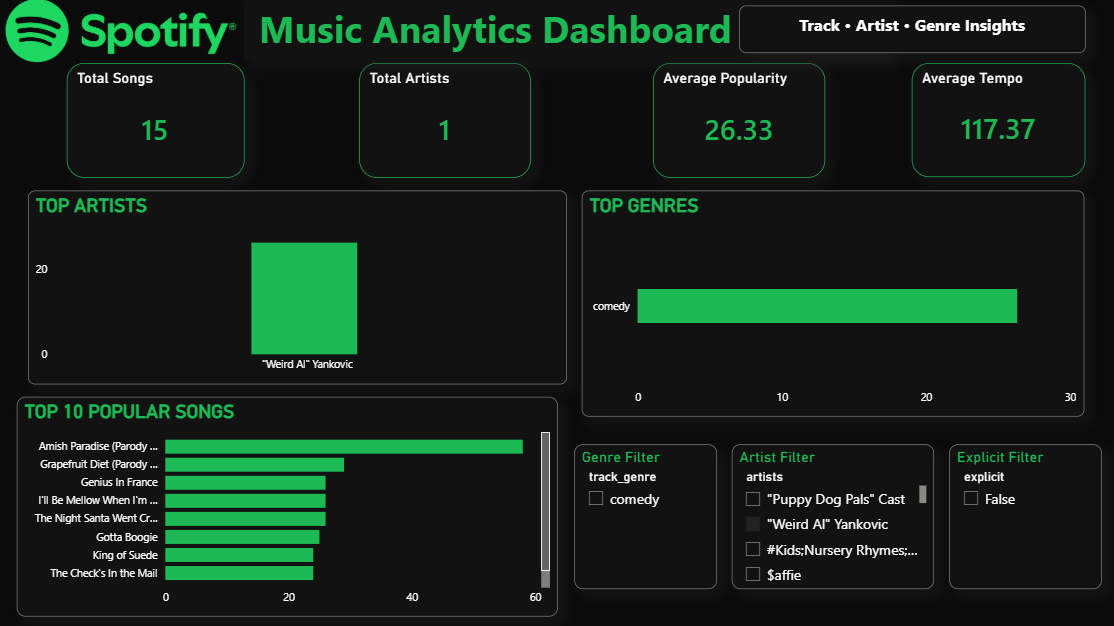

This screenshot's page, from the dashboard's own definition file:
{"tool":"powerbi","page":{"name":"Page 1","canvas":[1280,720],"ordinal":0},"visuals":[{"type":"cardVisual","title":"Total Songs","fields":{"Data":["CountNonNull(dataset.track_id)"]},"box":[78.6,74.3,202.9,131.4],"z":1000},{"type":"cardVisual","title":"Total Artists","fields":{"Data":["Count(dataset.artists)"]},"box":[412.9,74.3,195.7,131.4],"z":2000},{"type":"cardVisual","title":"Average Popularity","fields":{"Data":["Avg(dataset.popularity)"]},"box":[748.6,74.3,197.1,131.4],"z":3000},{"type":"cardVisual","title":"Average Tempo","fields":{"Data":["Avg(dataset.tempo)"]},"box":[1044.3,74.3,198.6,130],"z":4000},{"type":"clusteredBarChart","title":"TOP 10 POPULAR SONGS","fields":{"Category":["dataset.track_name"],"Y":["Avg(dataset.popularity)"]},"box":[21.4,455.7,618.6,251.4],"z":5000},{"type":"clusteredColumnChart","title":"TOP ARTISTS","fields":{"Category":["dataset.artists"],"Y":["Avg(dataset.popularity)"]},"box":[34.3,220,615.7,221.4],"z":6000},{"type":"clusteredBarChart","title":"TOP GENRES","fields":{"Y":["Avg(dataset.popularity)"],"Category":["dataset.track_genre"]},"box":[667.1,220,574.3,258.6],"z":7000},{"type":"slicer","title":"Artist Filter","fields":{"Values":["dataset.artists"]},"box":[838.6,510,231.4,165.7],"z":8000},{"type":"slicer","title":"Genre Filter","fields":{"Values":["dataset.track_genre"]},"box":[658.6,510,162.9,165.7],"z":9000},{"type":"slicer","title":"Explicit Filter","fields":{"Values":["dataset.explicit"]},"box":[1087.1,510,174.3,165.7],"z":10000},{"type":"textbox","box":[281.4,0,735.7,70],"z":10001},{"type":"image","box":[0,0,281.4,74.3],"z":10002},{"type":"textbox","box":[847.1,8.6,395.7,54.3],"z":10003}]}

Visuals, with their boxes in screenshot pixels (x1, y1, x2, y2), scaled from the page's 1280x720 canvas onto the 1114x626 screenshot:
"Total Songs" cardVisual: <bbox>68, 65, 245, 179</bbox>
"Total Artists" cardVisual: <bbox>359, 65, 530, 179</bbox>
"Average Popularity" cardVisual: <bbox>652, 65, 823, 179</bbox>
"Average Tempo" cardVisual: <bbox>909, 65, 1082, 178</bbox>
"TOP 10 POPULAR SONGS" clusteredBarChart: <bbox>19, 396, 557, 615</bbox>
"TOP ARTISTS" clusteredColumnChart: <bbox>30, 191, 566, 384</bbox>
"TOP GENRES" clusteredBarChart: <bbox>581, 191, 1080, 416</bbox>
"Artist Filter" slicer: <bbox>730, 443, 931, 587</bbox>
"Genre Filter" slicer: <bbox>573, 443, 715, 587</bbox>
"Explicit Filter" slicer: <bbox>946, 443, 1098, 587</bbox>
textbox: <bbox>245, 0, 885, 61</bbox>
image: <bbox>0, 0, 245, 65</bbox>
textbox: <bbox>737, 7, 1082, 55</bbox>
